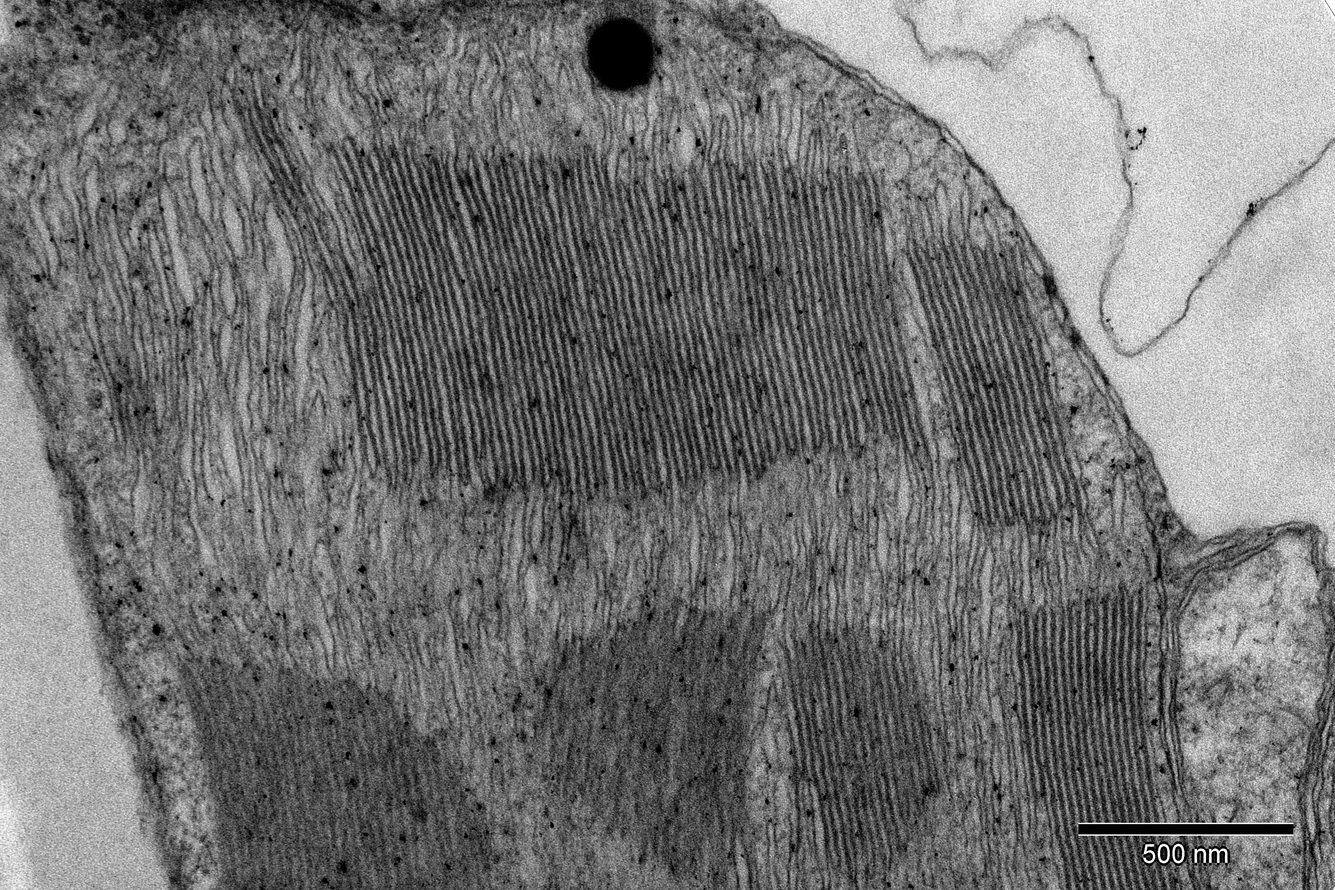granum: (309, 125, 945, 520), (501, 593, 782, 888), (174, 651, 503, 889), (223, 60, 396, 478), (900, 229, 1094, 539), (1001, 577, 1191, 889), (770, 614, 949, 884)
